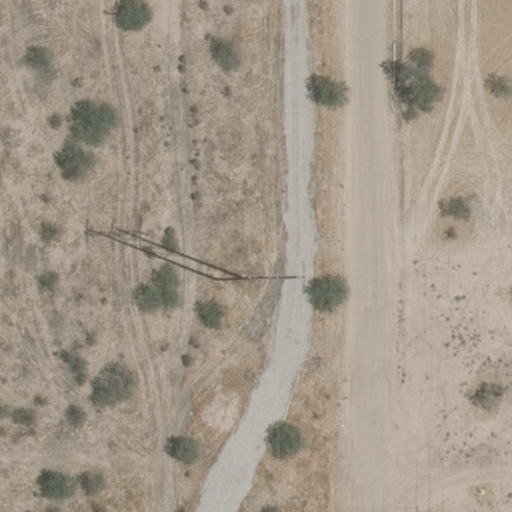TT: (241, 258, 313, 295)
